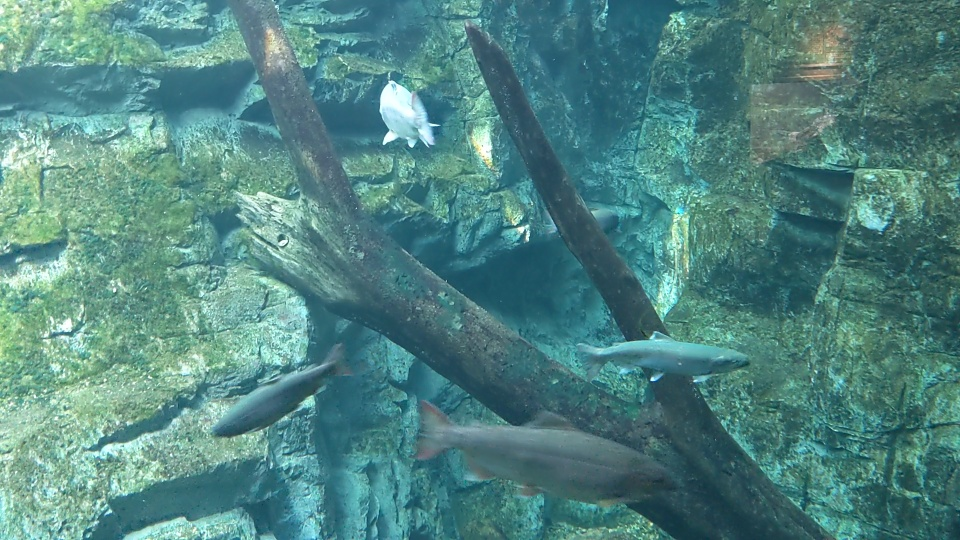Fish: (413, 399, 676, 503), (214, 345, 350, 438), (575, 331, 756, 387), (374, 76, 441, 152)
